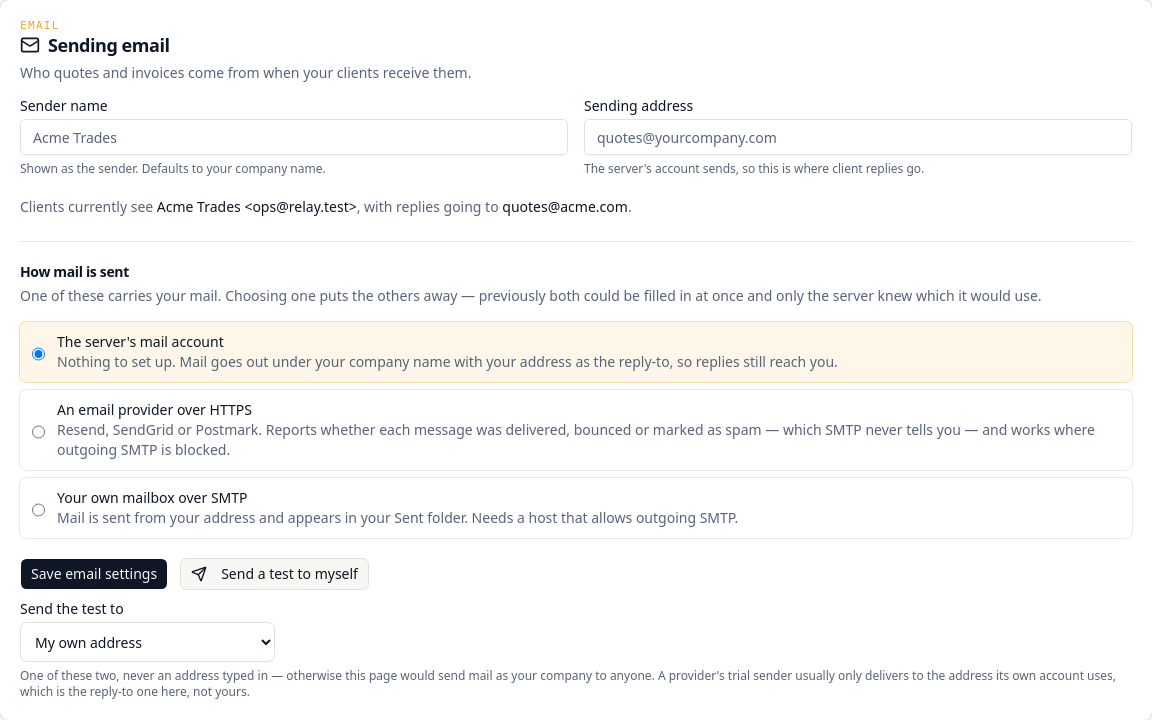
Scenario: a sending domain a provider can never verify › flags a trial sender as reaching only your own account
Step 1. Click the radio button labelled "email provider" → [38, 432], box [32,404,45,460]
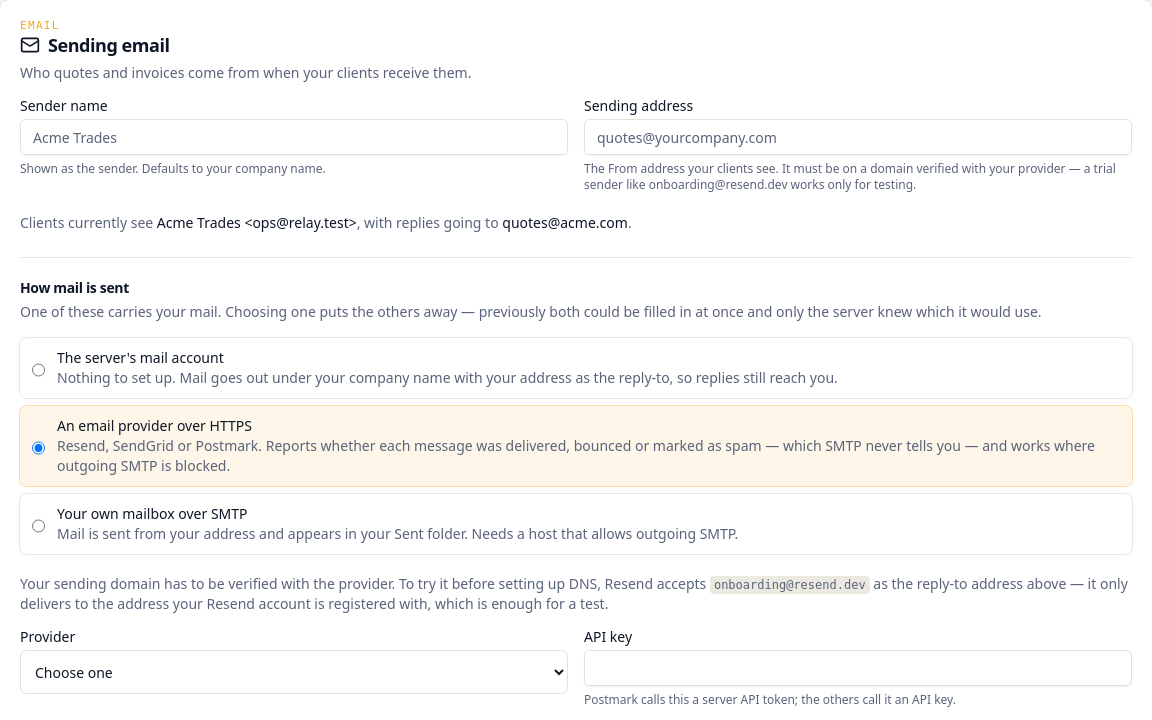
Step 2. Type "onboarding@resend.dev" into the field labelled "Sending address" → [858, 137], box [584,119,1132,155]
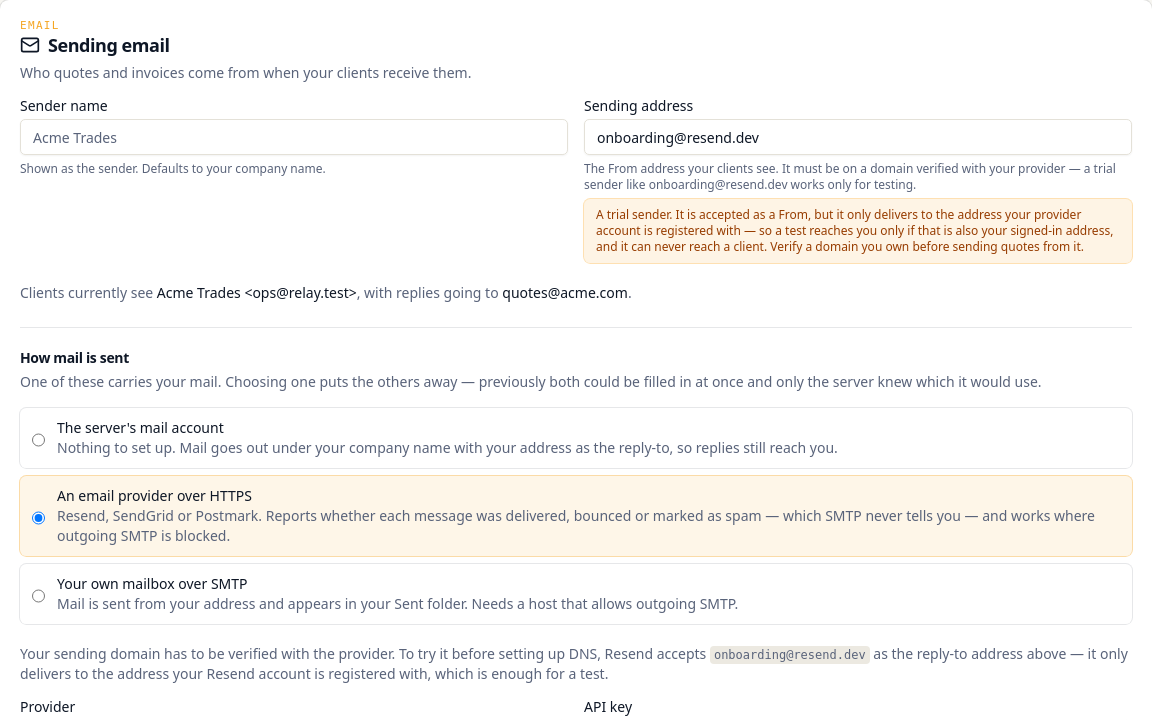
Now the message shows "accepted as a From", box [596,206,1113,255]
Now the message shows "only delivers to the address your provider account", box [596,206,1113,255]
Now the message shows "also your signed-in address", box [596,206,1113,255]
